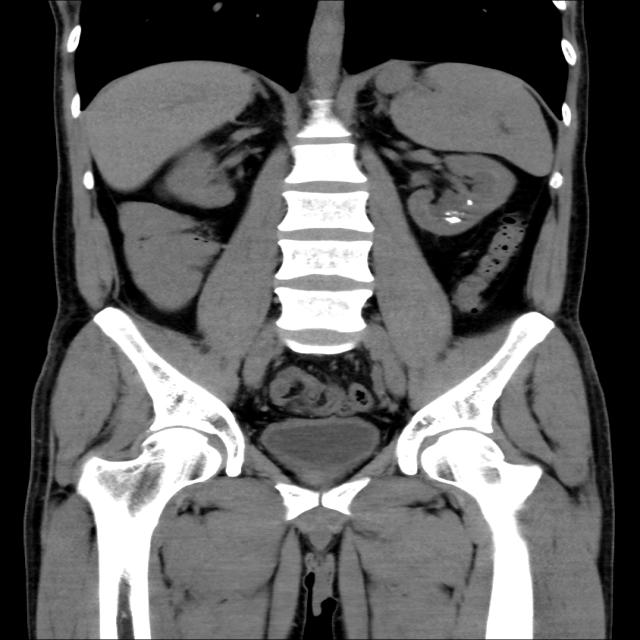kidneystone: (445, 212, 462, 224)
